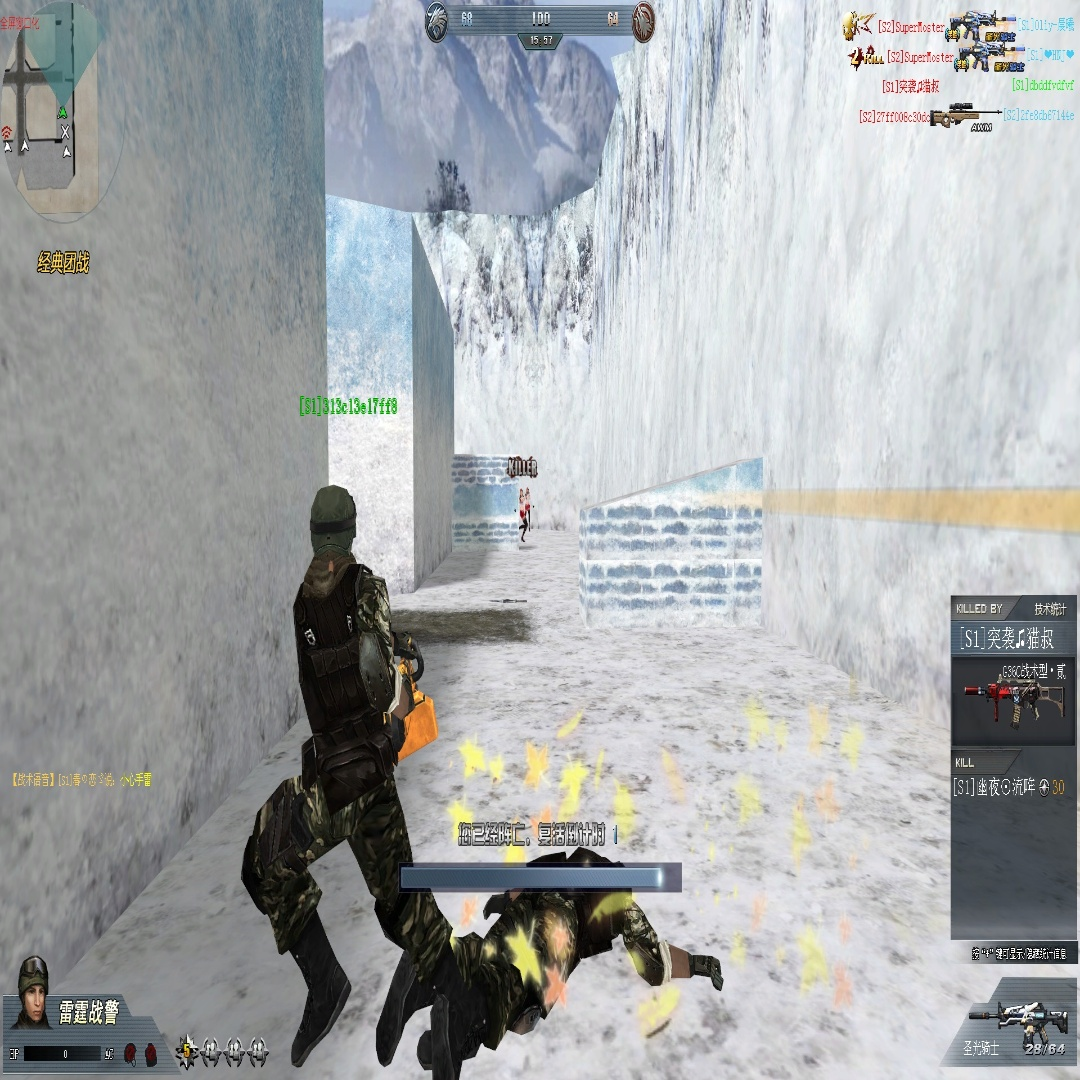head: (519, 488, 523, 497)
t: (518, 485, 527, 544)
